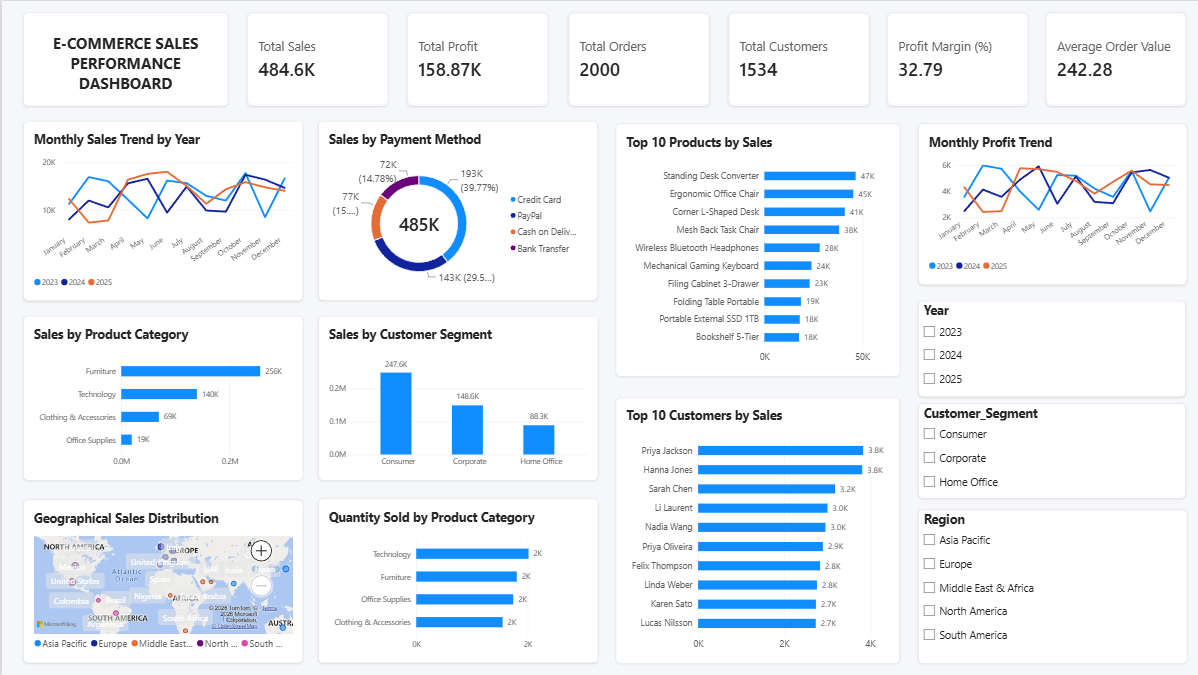

The dashboard page shown, as its layout file describes it:
{"tool":"powerbi","page":{"name":"Page 1","canvas":[1920,1080],"ordinal":0},"visuals":[{"type":"cardVisual","fields":{"Data":["Fact_Sales.Total Sales"]},"box":[392.4,17.4,226.7,150],"z":0},{"type":"lineChart","title":"Monthly Sales Trend by Year","fields":{"Category":["Dim_Date.Month"],"Series":["Dim_Date.Year"],"Y":["Fact_Sales.Total Sales"]},"box":[34,192,448,288],"z":1000},{"type":"clusteredBarChart","title":"Sales by Product Category","fields":{"Category":["Dim_Product.Product_Category"],"Y":["Fact_Sales.Total Sales"]},"box":[34,504,448.3,263.4],"z":2000},{"type":"map","title":"Geographical Sales Distribution","fields":{"Category":["Dim_Geography.Country"],"Series":["Dim_Geography.Region"],"Size":["Fact_Sales.Total Sales"]},"box":[34,798,448.3,261.6],"z":3000},{"type":"donutChart","title":"\tSales by Payment Method","fields":{"Category":["Dim_Payment.Payment_Method"],"Y":["Fact_Sales.Total Sales"]},"box":[505,192.5,447.5,287.5],"z":4000},{"type":"clusteredColumnChart","title":"Sales by Customer Segment","fields":{"Category":["Dim_Customer.Customer_Segment"],"Y":["Fact_Sales.Total Sales"]},"box":[506,504,448.3,263.4],"z":5000},{"type":"clusteredBarChart","title":"Top 10 Products by Sales","fields":{"Category":["Dim_Product.Product_Name"],"Y":["Fact_Sales.Total Sales"]},"box":[981.7,195,455,405],"z":6000},{"type":"clusteredBarChart","title":"Quantity Sold by Product Category","fields":{"Category":["Dim_Product.Product_Category"],"Y":["Fact_Sales.Total Quantity"]},"box":[505,795,448.3,263.4],"z":7000},{"type":"lineChart","title":"\tMonthly Profit Trend","fields":{"Category":["Dim_Date.Month"],"Series":["Dim_Date.Year"],"Y":["Fact_Sales.Total Profit"]},"box":[1466.7,195,430,258.3],"z":8000},{"type":"clusteredBarChart","title":"Top 10 Customers by Sales","fields":{"Category":["Dim_Customer.Customer_Name"],"Y":["Fact_Sales.Total Sales"]},"box":[982,634,454,426],"z":9000},{"type":"slicer","fields":{"Values":["Dim_Date.Year"]},"box":[1466.7,480,428.3,153.3],"z":10000},{"type":"slicer","fields":{"Values":["Dim_Geography.Region"]},"box":[1466,814,430,246],"z":11000},{"type":"slicer","fields":{"Values":["Dim_Customer.Customer_Segment"]},"box":[1466.7,643.3,428.3,151.7],"z":12000},{"type":"textbox","box":[33.1,17.4,327.9,150],"z":13000},{"type":"cardVisual","fields":{"Data":["Fact_Sales.Total Profit","Fact_Sales.Total Profit"]},"box":[648.8,17.4,226.7,150],"z":13001},{"type":"cardVisual","fields":{"Data":["Fact_Sales.Total Orders"]},"box":[905.2,17.4,226.7,150],"z":13002},{"type":"cardVisual","fields":{"Data":["Fact_Sales.Total Customers"]},"box":[1161.6,17.4,226.7,150],"z":13003},{"type":"cardVisual","fields":{"Data":["Fact_Sales.Profit Margin (%)"]},"box":[1416.3,17.4,226.7,150],"z":13004},{"type":"cardVisual","fields":{"Data":["Fact_Sales.Average Order Value"]},"box":[1670.9,17.4,225,150],"z":13005}]}

Visuals, with their boxes in screenshot pixels (x1, y1, x2, y2), scaled from the page's 1920x1080 canvas onto the 1198x675 screenshot:
cardVisual - Fact_Sales.Total Sales: locate(245, 11, 386, 105)
"Monthly Sales Trend by Year" lineChart: locate(21, 120, 301, 300)
"Sales by Product Category" clusteredBarChart: locate(21, 315, 301, 480)
"Geographical Sales Distribution" map: locate(21, 499, 301, 662)
"	Sales by Payment Method" donutChart: locate(315, 120, 594, 300)
"Sales by Customer Segment" clusteredColumnChart: locate(316, 315, 595, 480)
"Top 10 Products by Sales" clusteredBarChart: locate(613, 122, 896, 375)
"Quantity Sold by Product Category" clusteredBarChart: locate(315, 497, 595, 662)
"	Monthly Profit Trend" lineChart: locate(915, 122, 1183, 283)
"Top 10 Customers by Sales" clusteredBarChart: locate(613, 396, 896, 662)
slicer - Dim_Date.Year: locate(915, 300, 1182, 396)
slicer - Dim_Geography.Region: locate(915, 509, 1183, 662)
slicer - Dim_Customer.Customer_Segment: locate(915, 402, 1182, 497)
textbox: locate(21, 11, 225, 105)
cardVisual - Fact_Sales.Total Profit x Fact_Sales.Total Profit: locate(405, 11, 546, 105)
cardVisual - Fact_Sales.Total Orders: locate(565, 11, 706, 105)
cardVisual - Fact_Sales.Total Customers: locate(725, 11, 866, 105)
cardVisual - Fact_Sales.Profit Margin (%): locate(884, 11, 1025, 105)
cardVisual - Fact_Sales.Average Order Value: locate(1043, 11, 1183, 105)
